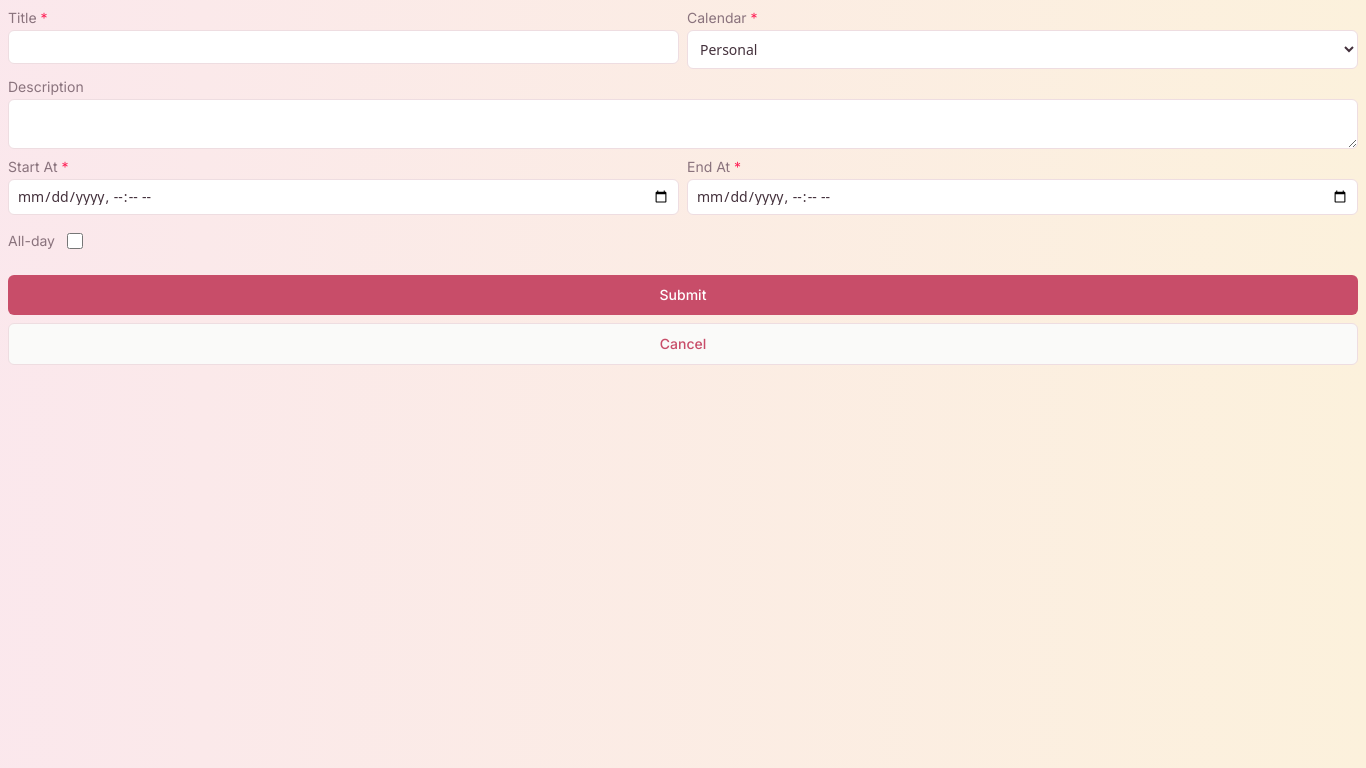
Test case: EventForm › Should render zod validation errors with invalid form values
The image size is (1366, 768).
Click the button "Submit" at (683, 295), box [8,275,1358,315]
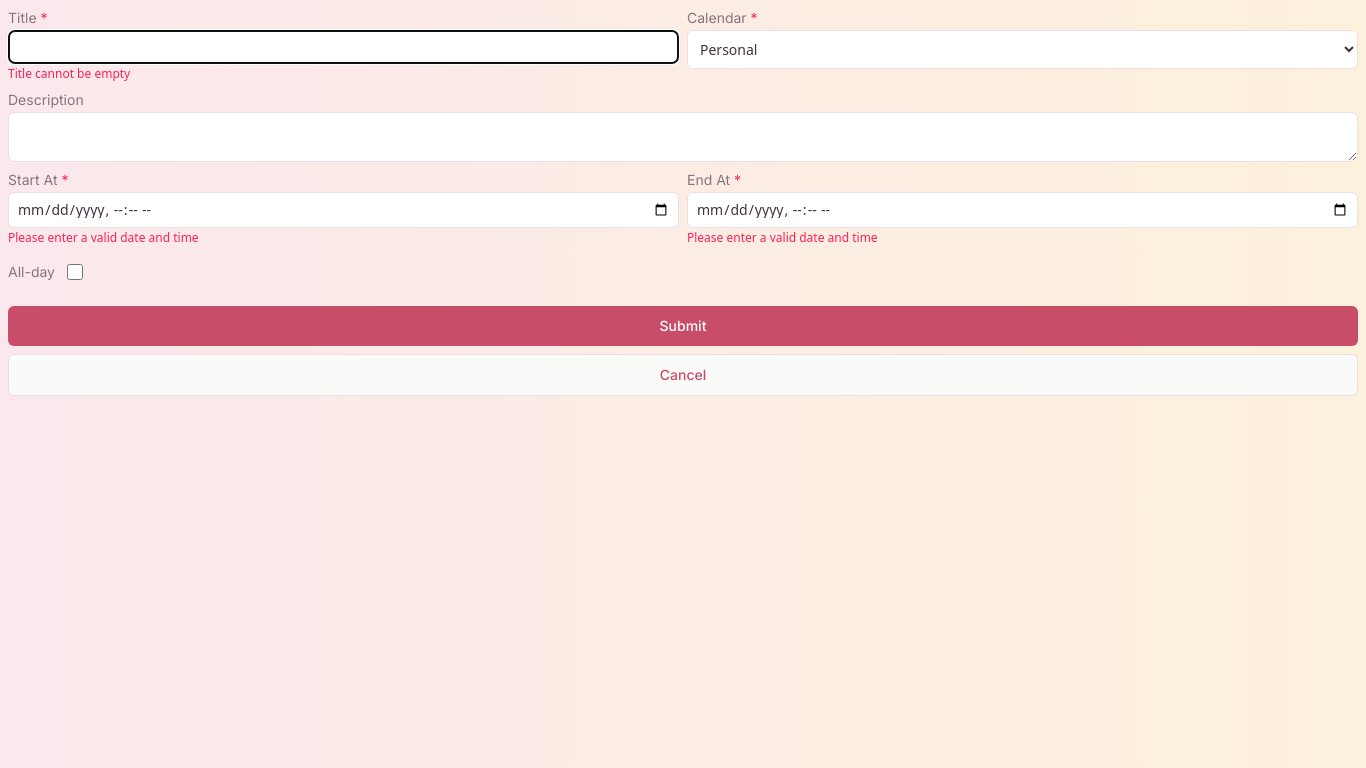
Expected: the text "Title cannot be empty" is shown, [8,65,130,82]
Expected: the text "Please enter a valid date and time" is shown 2 times, [8,229,199,246]; [687,229,878,246]
